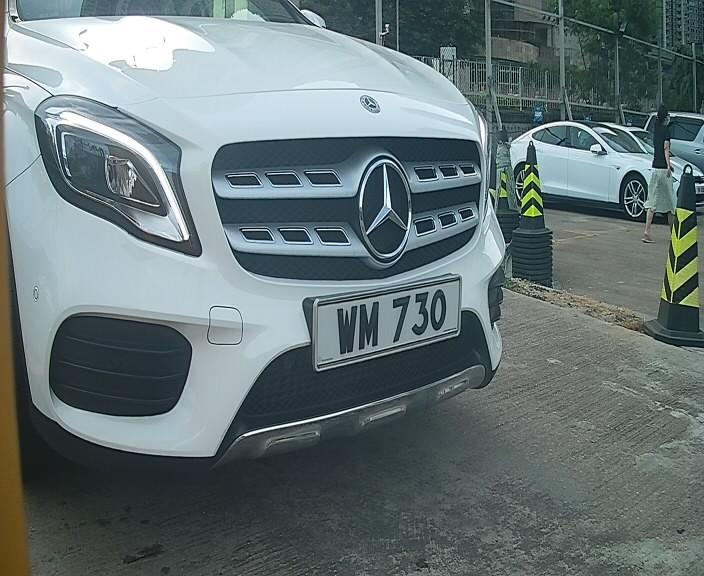privatecar: (4, 24, 538, 487)
